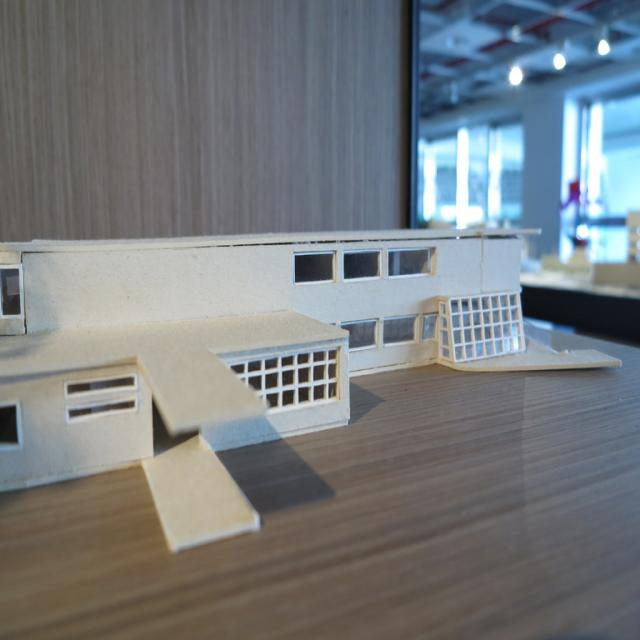desk: (0, 322, 639, 639)
